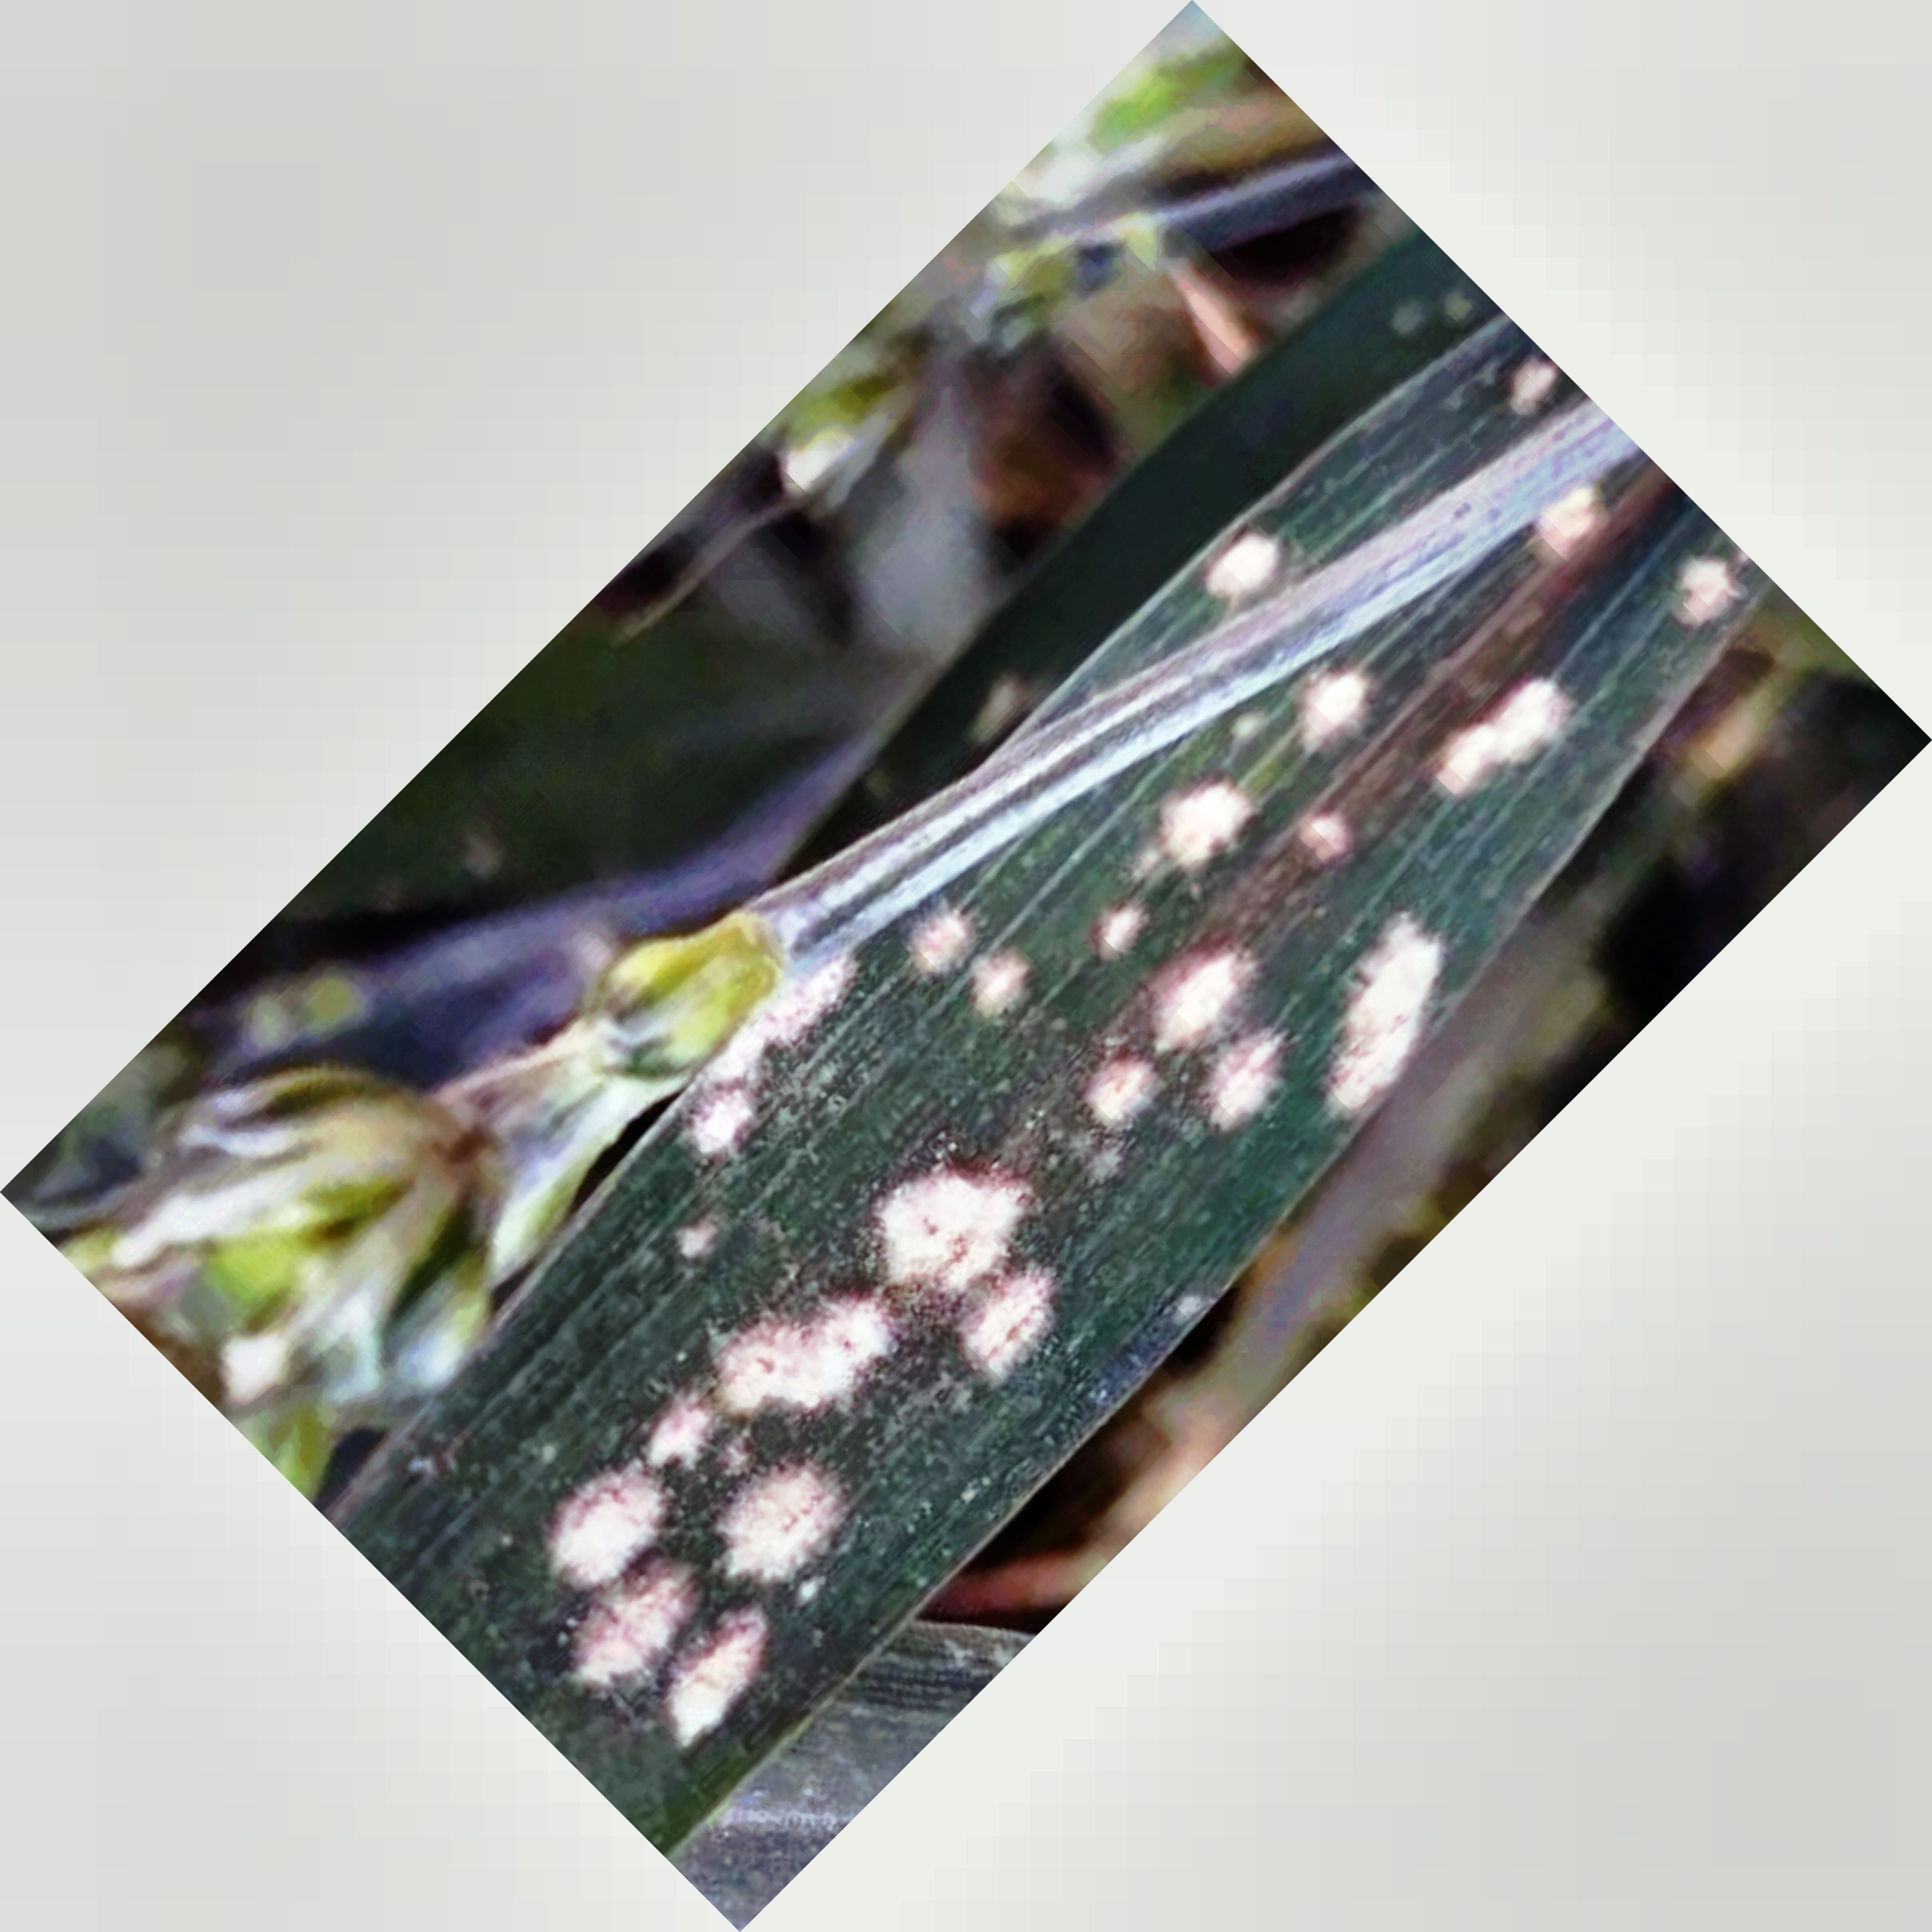Powdery Mildew: (540, 511, 1660, 1706)
